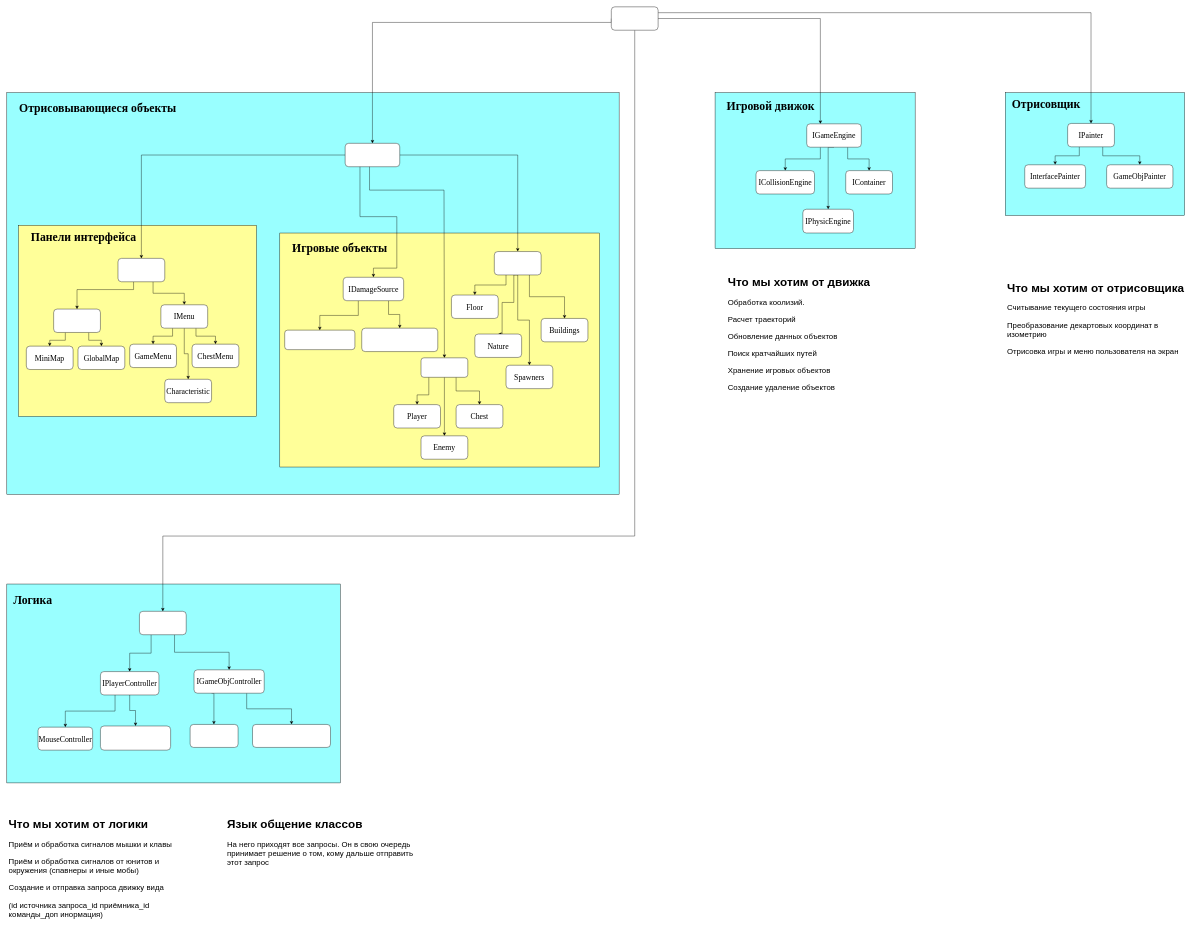
Image size: 1202x946. Some labels were removed from this diagram. The shapes that lost their labels are listed below. From the top down, each one's centre as x and y in pixels, then its label:
the point at 634,18: IObj
the point at 372,155: IGameObj
the point at 141,270: IUserInterface
the point at 517,263: IEnvironment
the point at 76,320: IMap
the point at 319,340: MageDamageSource
the point at 399,340: PhysicalDamageSource
the point at 444,367: IUnit
the point at 162,623: IController
the point at 135,738: KeyBoardController
the point at 214,735: UnitController
the point at 291,735: EnvironmentController
